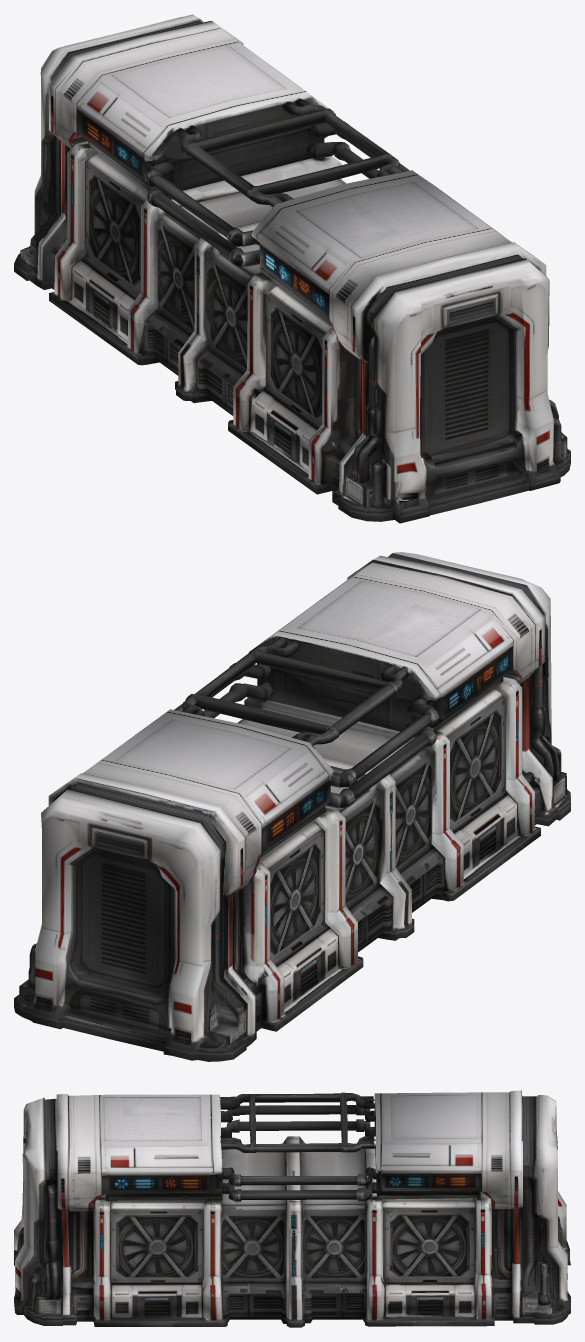
File: temperature+3d+model.fbx
The picture shows the model from 3 angles, top to bottom: view 1: azimuth 30°, elevation 25°; view 2: azimuth 150°, elevation 25°; view 3: azimuth 270°, elevation 25°; orthographic projection. The views are drawn at different scales.
Visible parts, largest first — view 1: meshes[0]; view 2: meshes[0]; view 3: meshes[0].
Boxes of the visible parts, <box> form: meshes[0]: <box>14,14,570,523</box>; meshes[0]: <box>14,552,570,1061</box>; meshes[0]: <box>14,1090,570,1327</box>.
Size of the model in its own units: 0.3613 by 0.334 by 0.998.
